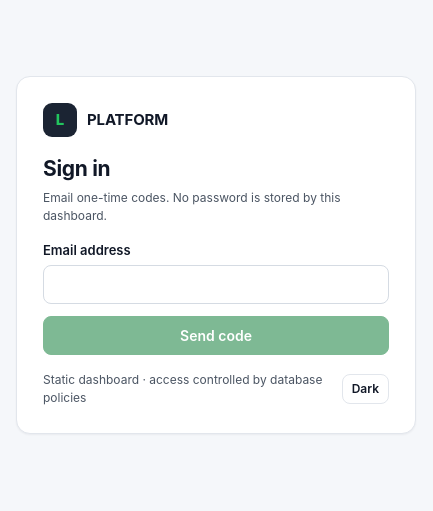
Scenario: login › signs out a disabled profile
Expected: the heading "Sign in" is shown, [43,156,110,181]
Type "disabled@dashboard.test" into the field labelled "Email address".
click(216, 284); type("disabled@dashboard.test")  # box [43,265,389,304]
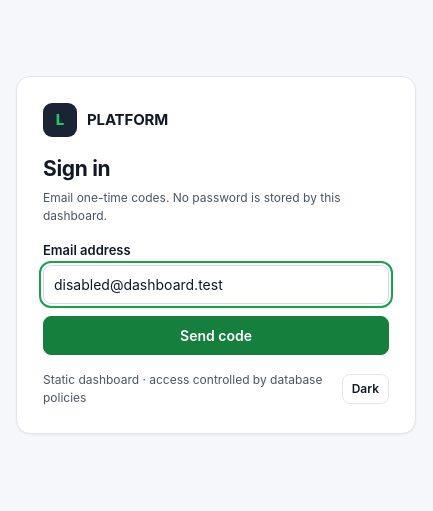
Click the button "Send code".
click(216, 336)  # box [43,316,389,355]
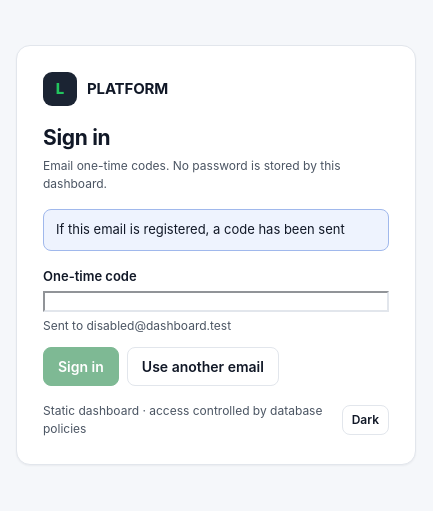
Type "123456" into the field labelled "One-time code".
click(216, 302); type("123456")  # box [43,291,389,312]
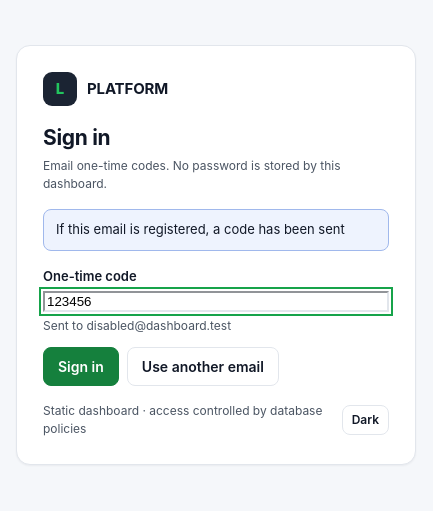
Click the button "Sign in".
click(81, 367)  # box [43,347,119,386]
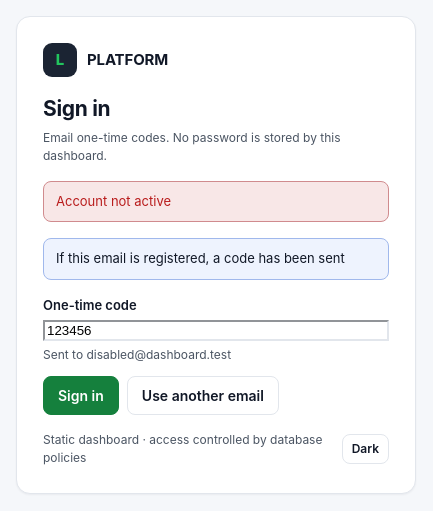
Expected: the text "Account not active" is shown, [43,180,389,222]
